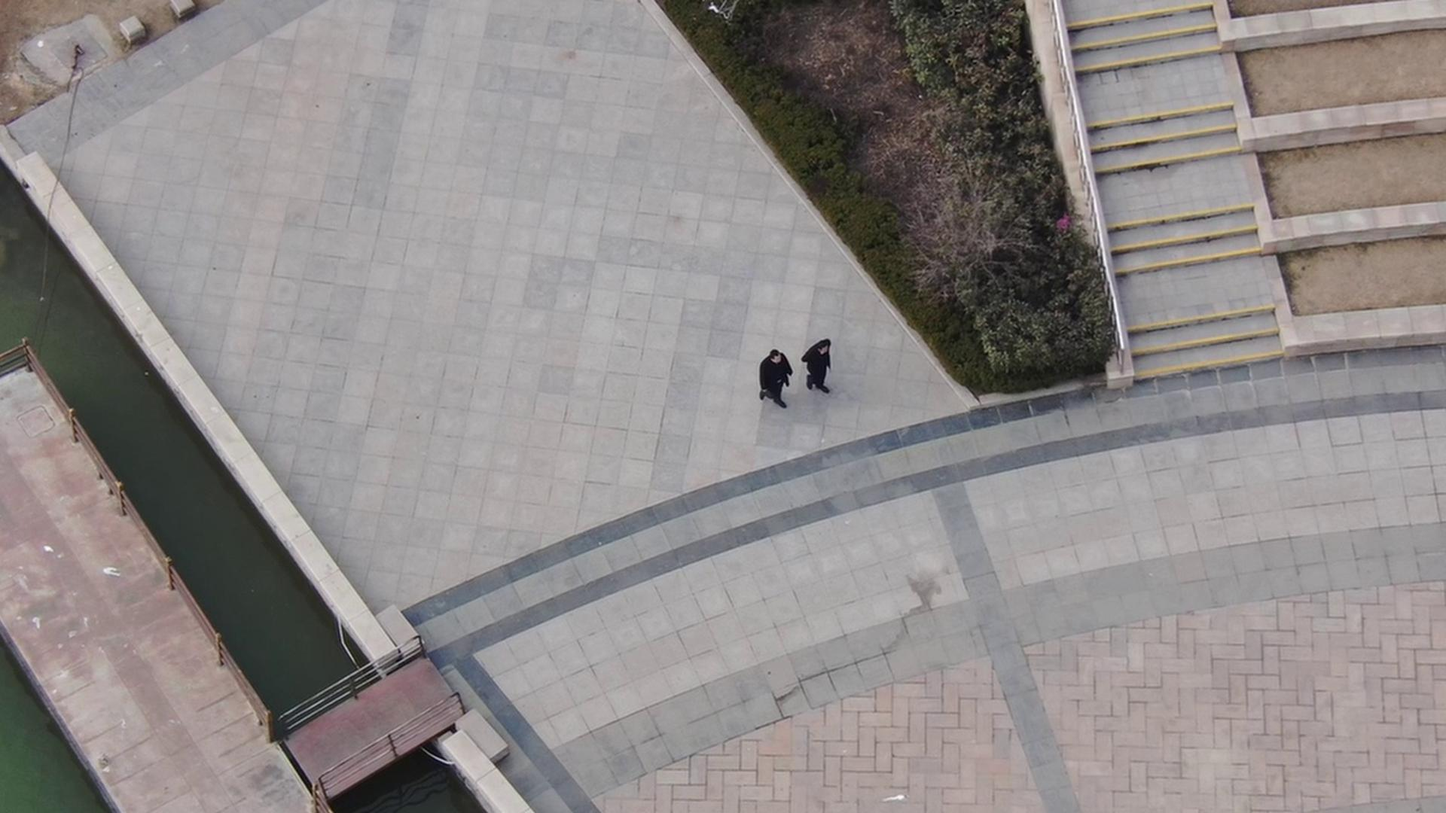human: (750, 339, 795, 411), (795, 328, 844, 394)
